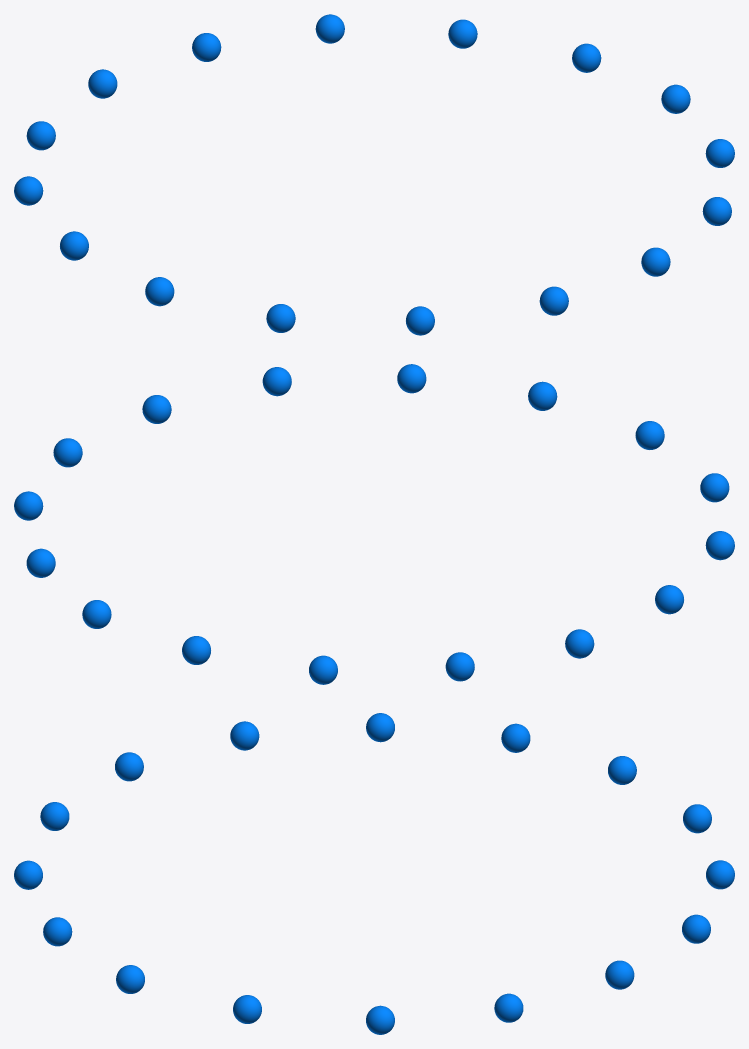
3 renders of one model, top to bottom at view 1: azimuth 30°, elevation 25°; view 2: azimuth 150°, elevation 25°; view 3: azimuth 270°, elevation 25°, orthographic.
Visible parts, largest first — view 1: Sphere052; view 2: Sphere052; view 3: Sphere052.
Boxes of the visible parts, x1,y1,x2,y2 form: Sphere052: [14, 14, 734, 335]; Sphere052: [14, 364, 734, 684]; Sphere052: [14, 713, 734, 1034].
Bounding box in the file's own units: 203 × 8.22 × 203.
